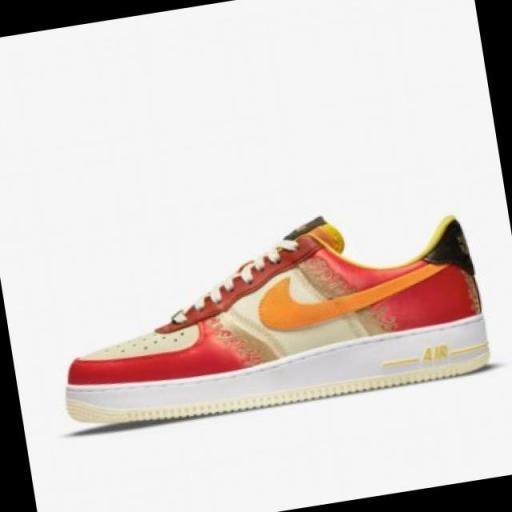Nike: (254, 246, 463, 336)
